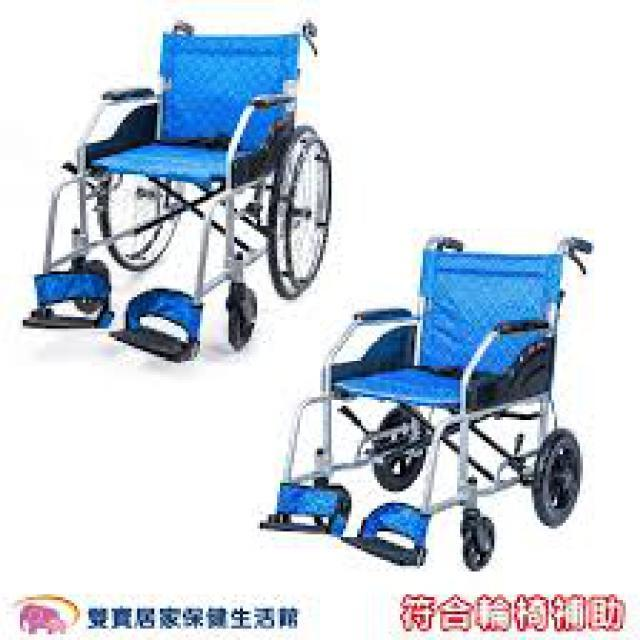wheelchair: (243, 222, 603, 568), (2, 6, 334, 368)
